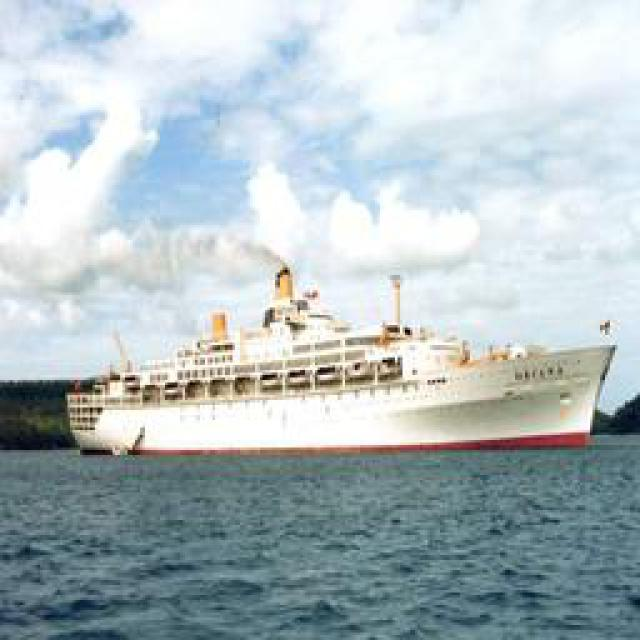Ship: (70, 271, 610, 459)
